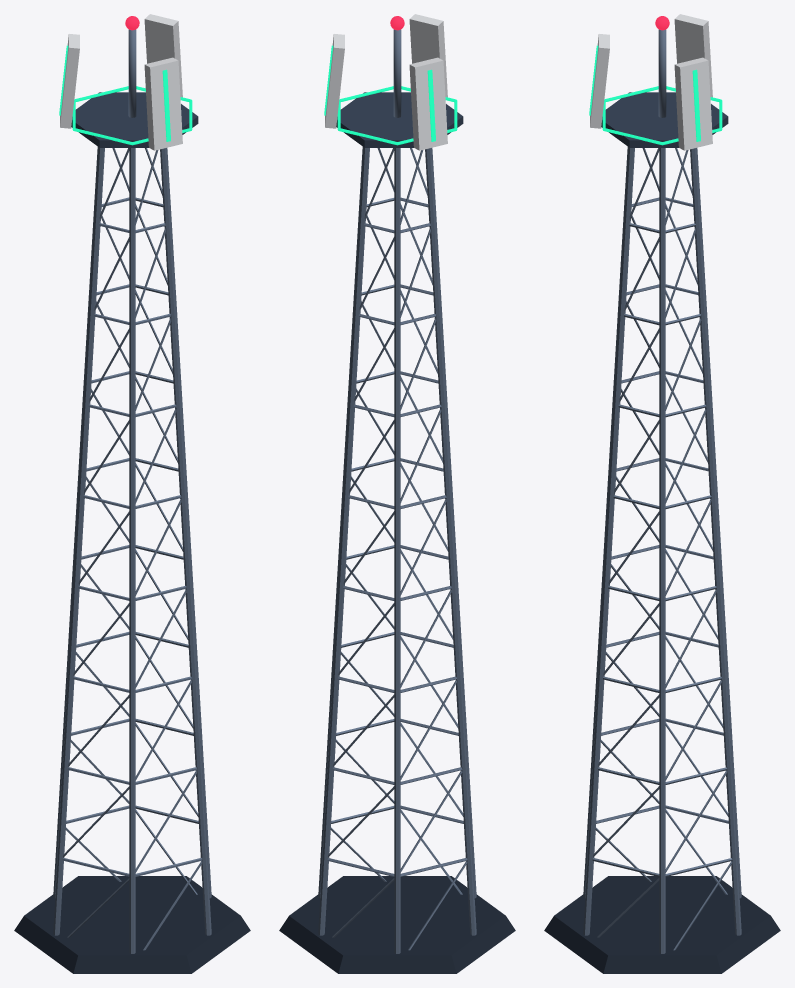
The model's file is 5g_tower.glb.
The picture shows the model from 3 angles, left to right: view 1: azimuth 30°, elevation 25°; view 2: azimuth 150°, elevation 25°; view 3: azimuth 270°, elevation 25°; orthographic projection.
Visible parts, largest first — view 1: Lattice, Foundation, PanelAntennas, Deck, PanelGlow, Mast; view 2: Lattice, Foundation, PanelAntennas, Deck, PanelGlow, Mast; view 3: Lattice, Foundation, PanelAntennas, Deck, PanelGlow, Mast.
Part boxes in pixels (box(x1,y1,x2,y2)): Lattice: box(53, 147, 211, 953); Foundation: box(14, 876, 250, 973); PanelAntennas: box(60, 14, 182, 150); Deck: box(71, 92, 198, 147); PanelGlow: box(59, 45, 192, 145); Mast: box(128, 29, 136, 117); Lattice: box(318, 147, 476, 953); Foundation: box(279, 876, 515, 973); PanelAntennas: box(325, 14, 447, 150); Deck: box(336, 92, 463, 147); PanelGlow: box(324, 45, 457, 145); Mast: box(393, 29, 401, 117); Lattice: box(583, 147, 741, 953); Foundation: box(544, 876, 780, 973); PanelAntennas: box(590, 14, 712, 150); Deck: box(601, 92, 728, 147); PanelGlow: box(589, 45, 722, 145); Mast: box(658, 29, 666, 117).
Bounding box in the file's own units: 6.24 × 30.69 × 7.2.
